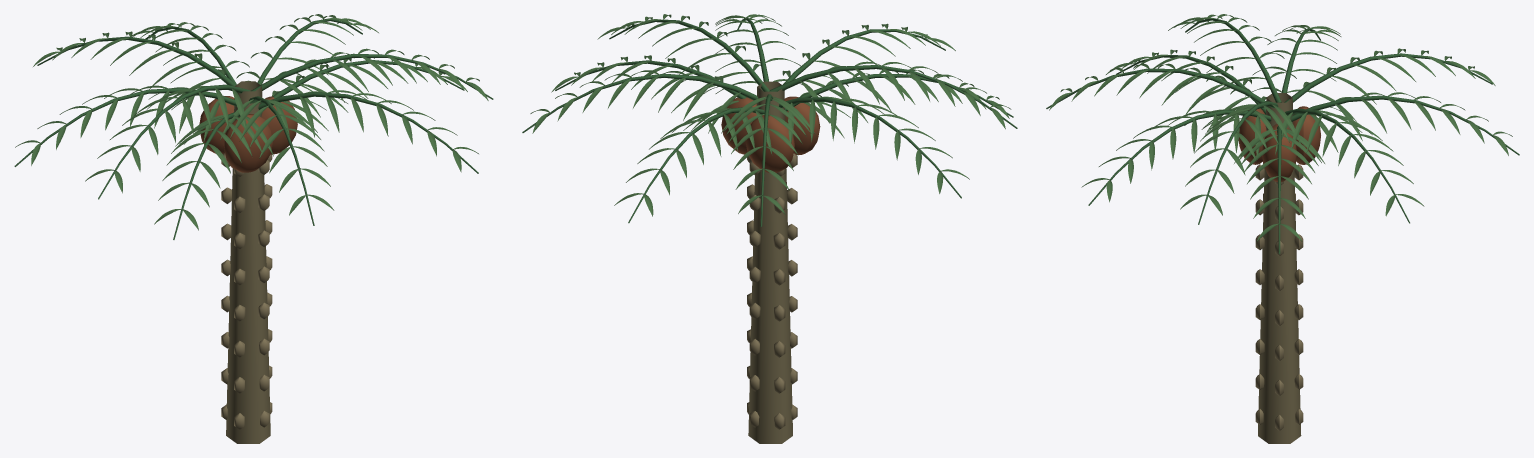
Rendered from palma_aceitera.glb.
3 renders of one model, left to right at view 1: azimuth 30°, elevation 25°; view 2: azimuth 150°, elevation 25°; view 3: azimuth 270°, elevation 25°, orthographic. The views are drawn at different scales.
Visible parts, largest first — view 1: palma_aceitera; view 2: palma_aceitera; view 3: palma_aceitera.
Part boxes in pixels (left/top/right/bottom): palma_aceitera: left=14, top=14, right=493, bottom=443; palma_aceitera: left=522, top=14, right=1017, bottom=443; palma_aceitera: left=1046, top=14, right=1519, bottom=443.
Bounding box in the file's own units: 3.98 × 3.34 × 3.93.
